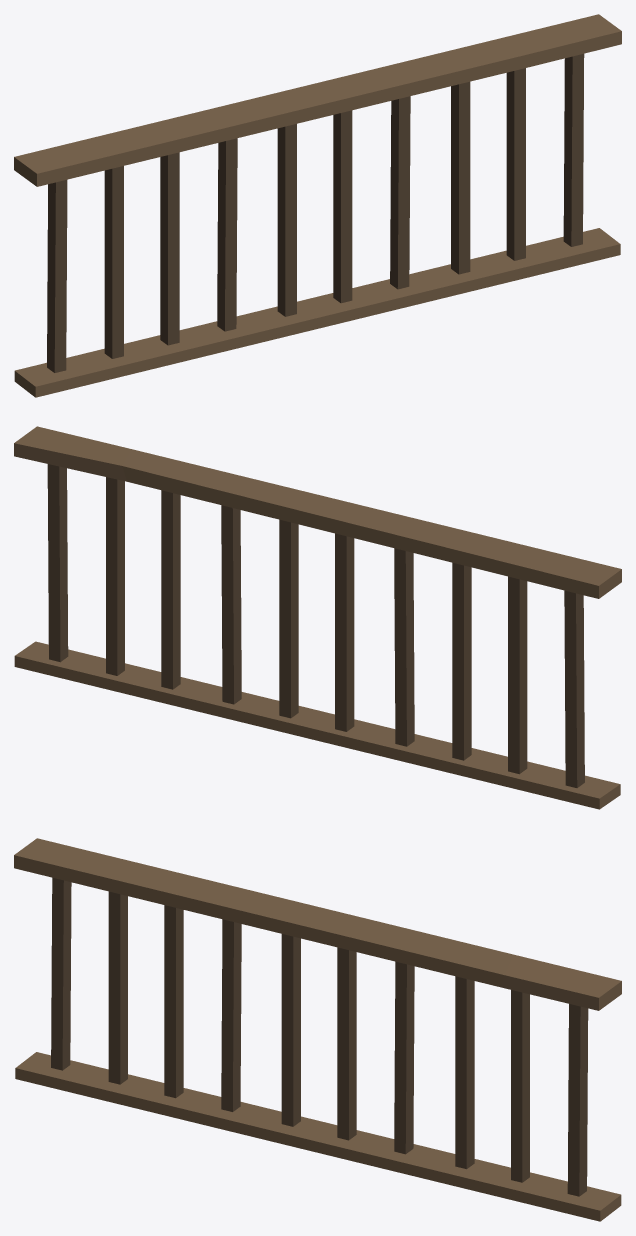
File: SM_Bld_House_Interior_Rail_01.fbx
3 views of the same model, one above another, from view 1: azimuth 30°, elevation 25°; view 2: azimuth 150°, elevation 25°; view 3: azimuth 330°, elevation 25° (orthographic).
Visible parts, largest first — view 1: SM_Bld_House_Interior_Rail_01; view 2: SM_Bld_House_Interior_Rail_01; view 3: SM_Bld_House_Interior_Rail_01.
Boxes of the visible parts, x1,y1,x2,y2 form: SM_Bld_House_Interior_Rail_01: (14, 14, 621, 397); SM_Bld_House_Interior_Rail_01: (14, 426, 621, 809); SM_Bld_House_Interior_Rail_01: (14, 838, 621, 1221).
Bounding box in the file's own units: 250 × 92.64 × 17.34.
